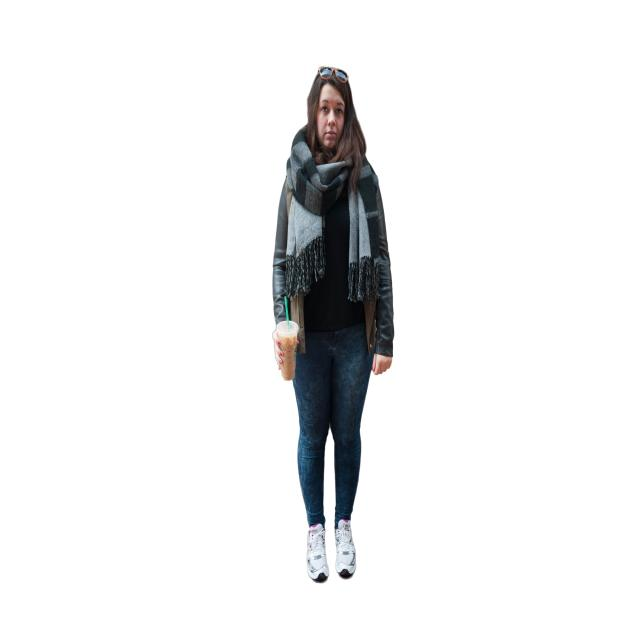jovem: (268, 60, 402, 582)
